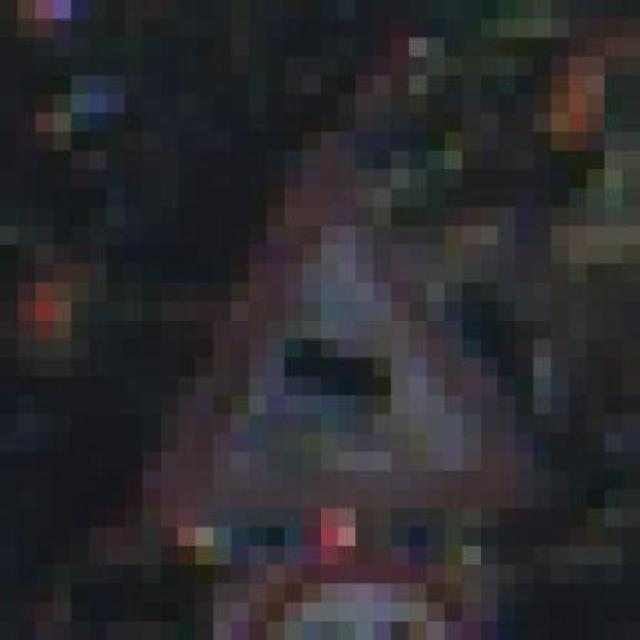Slippery Road Ahead: (89, 112, 552, 546)
